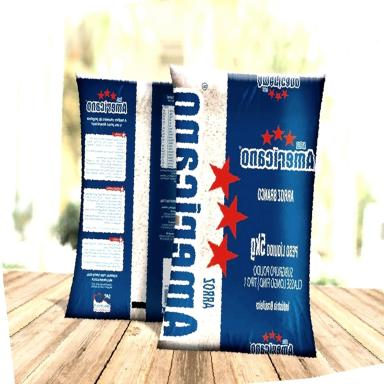rice package: (159, 66, 324, 356), (66, 77, 175, 321)
